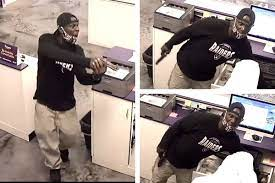gun: (96, 57, 123, 76), (152, 146, 171, 168), (154, 44, 169, 67)
